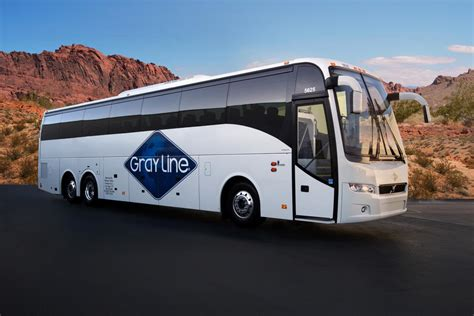bus: (39, 62, 407, 225)
